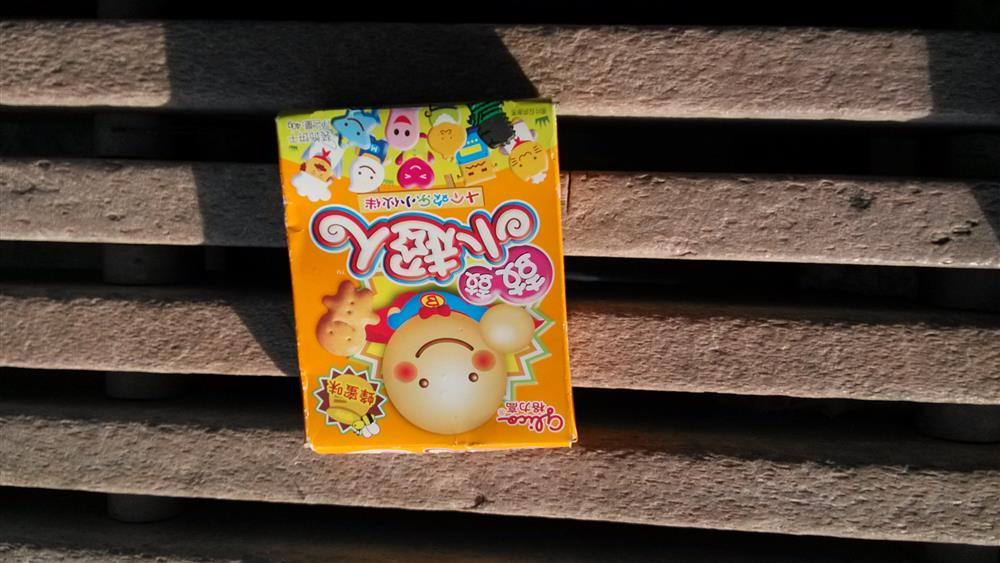glice_superman: (267, 98, 581, 454)
